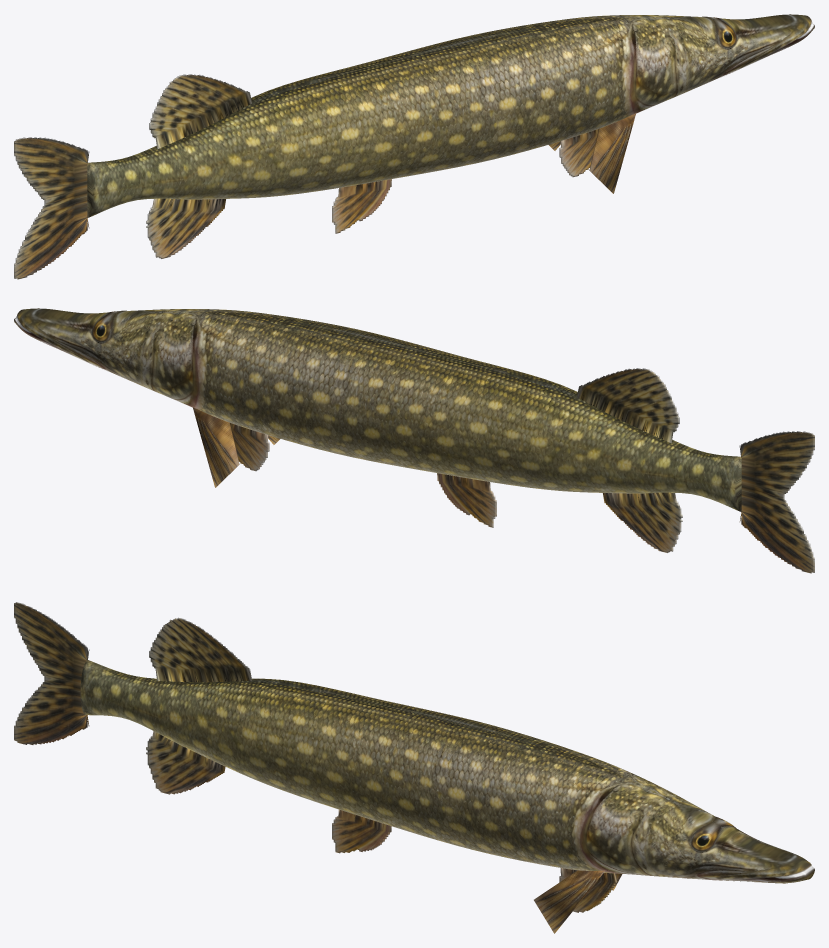
The model's file is pike.glb.
3 views of the same model, one above another, from view 1: azimuth 30°, elevation 25°; view 2: azimuth 150°, elevation 25°; view 3: azimuth 330°, elevation 25° (orthographic).
Parts seen in each view (by area): view 1: pike_realistic.003; view 2: pike_realistic.003; view 3: pike_realistic.003.
Boxes of the visible parts, x1,y1,x2,y2 form: pike_realistic.003: (14, 14, 814, 279); pike_realistic.003: (14, 308, 814, 573); pike_realistic.003: (14, 602, 814, 933).
Bounding box in the file's own units: 1 × 0.2365 × 0.1293.
3 materials, 3 textured.
